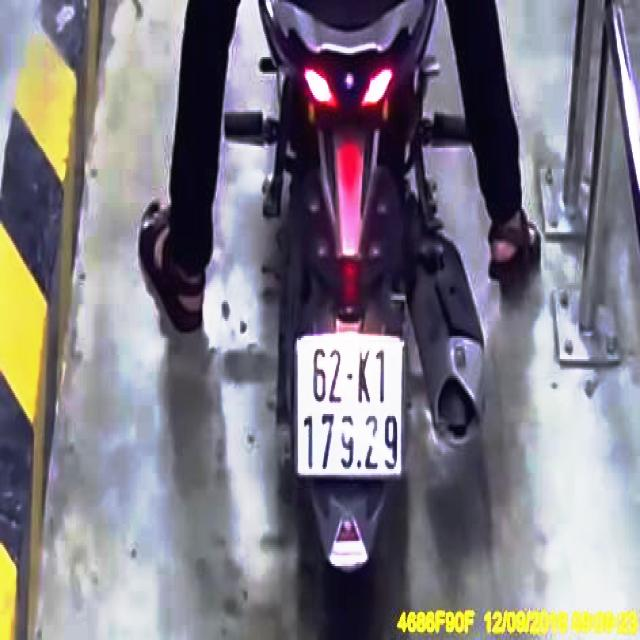license_plate: (296, 341, 407, 478)
